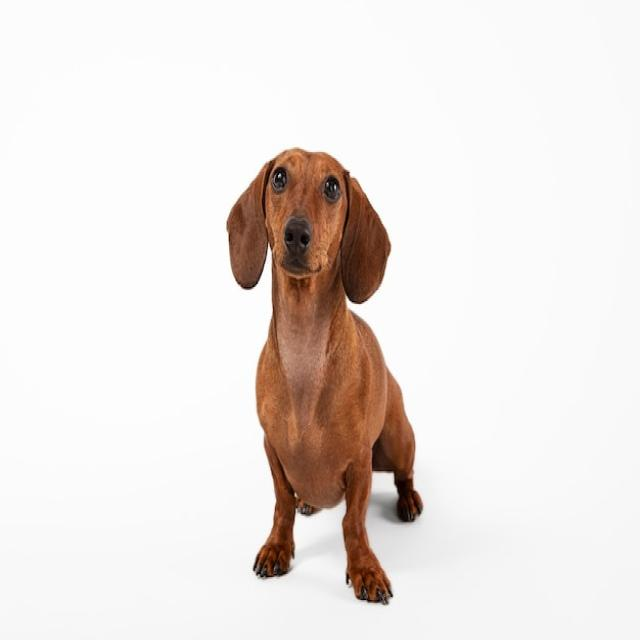Dog: (225, 150, 423, 602)
